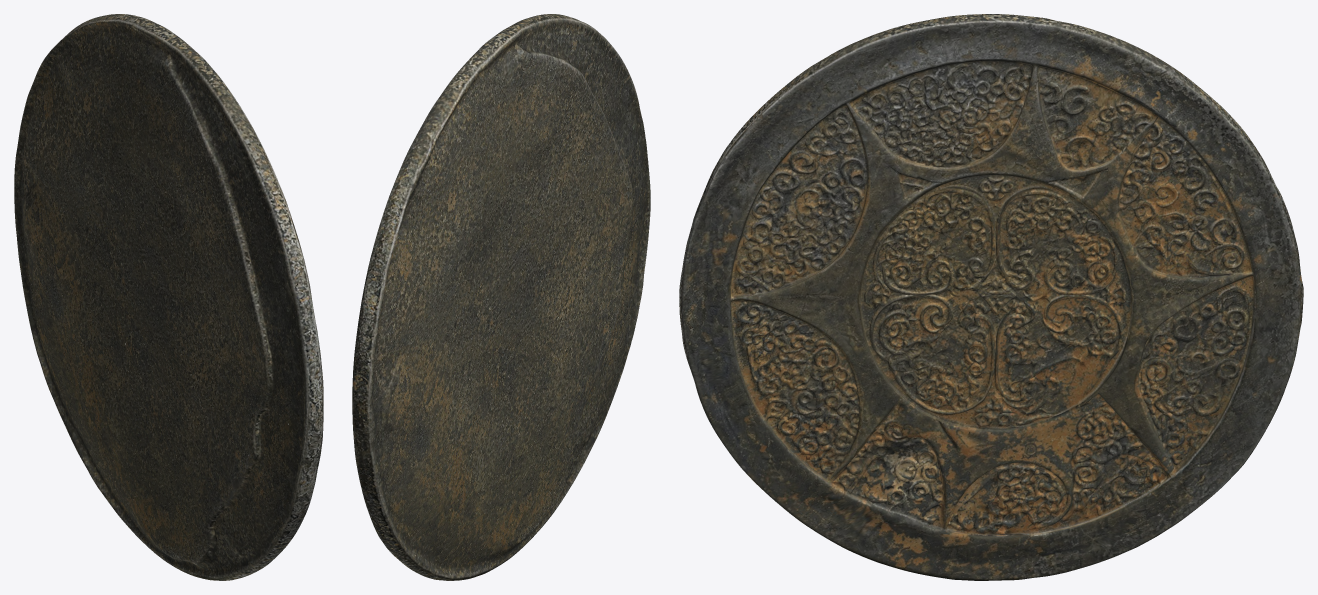
Rendered from cloud-mirror-web-desktop.glb.
The picture shows the model from 3 angles, left to right: view 1: azimuth 30°, elevation 25°; view 2: azimuth 150°, elevation 25°; view 3: azimuth 270°, elevation 25°; orthographic projection. The views are drawn at different scales.
Parts seen in each view (by area): view 1: tripo_node_4533c6f9-ca47-4391-a8e8-314606ab59f9; view 2: tripo_node_4533c6f9-ca47-4391-a8e8-314606ab59f9; view 3: tripo_node_4533c6f9-ca47-4391-a8e8-314606ab59f9.
Boxes of the visible parts, left/top/right/bottom form: tripo_node_4533c6f9-ca47-4391-a8e8-314606ab59f9: left=14, top=14, right=323, bottom=580; tripo_node_4533c6f9-ca47-4391-a8e8-314606ab59f9: left=352, top=14, right=650, bottom=580; tripo_node_4533c6f9-ca47-4391-a8e8-314606ab59f9: left=679, top=14, right=1303, bottom=580.
Size of the model in its own units: 0.0626 by 0.9737 by 0.9793.
1 material, 1 textured.
